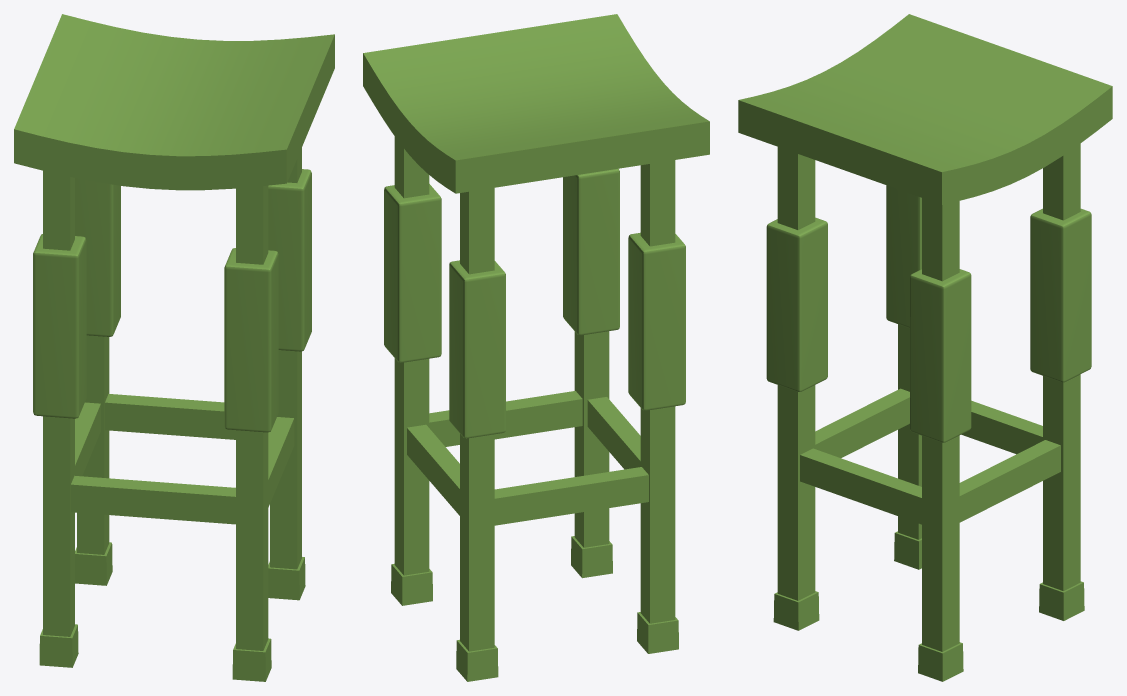
Rendered from BarStool.fbx.
3 renders of one model, left to right at view 1: azimuth 30°, elevation 25°; view 2: azimuth 150°, elevation 25°; view 3: azimuth 270°, elevation 25°, orthographic. The views are drawn at different scales.
Parts seen in each view (by area): view 1: BarStool; view 2: BarStool; view 3: BarStool.
Boxes of the visible parts, x1,y1,x2,y2 form: BarStool: (14,14,334,681); BarStool: (363,14,709,681); BarStool: (738,14,1112,681).
Bounding box in the file's own units: 60.12 × 92.71 × 60.12.
